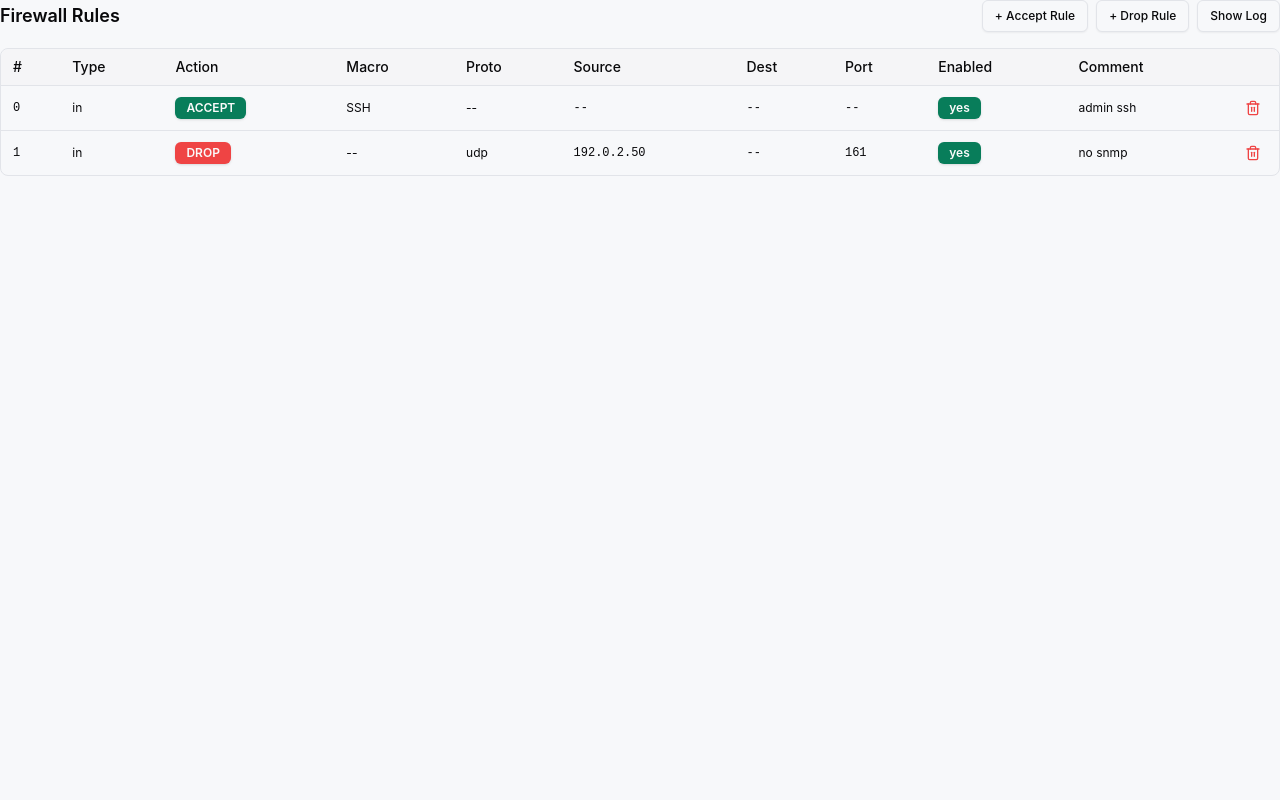
Test: NodeDetailPage Firewall tab — deleting a rule › asks first, naming the rule at that position, and sends nothing
Click the button named "Delete firewall rule 1" at (1253, 153), box top-left (1239, 139), bottom-right (1267, 167)
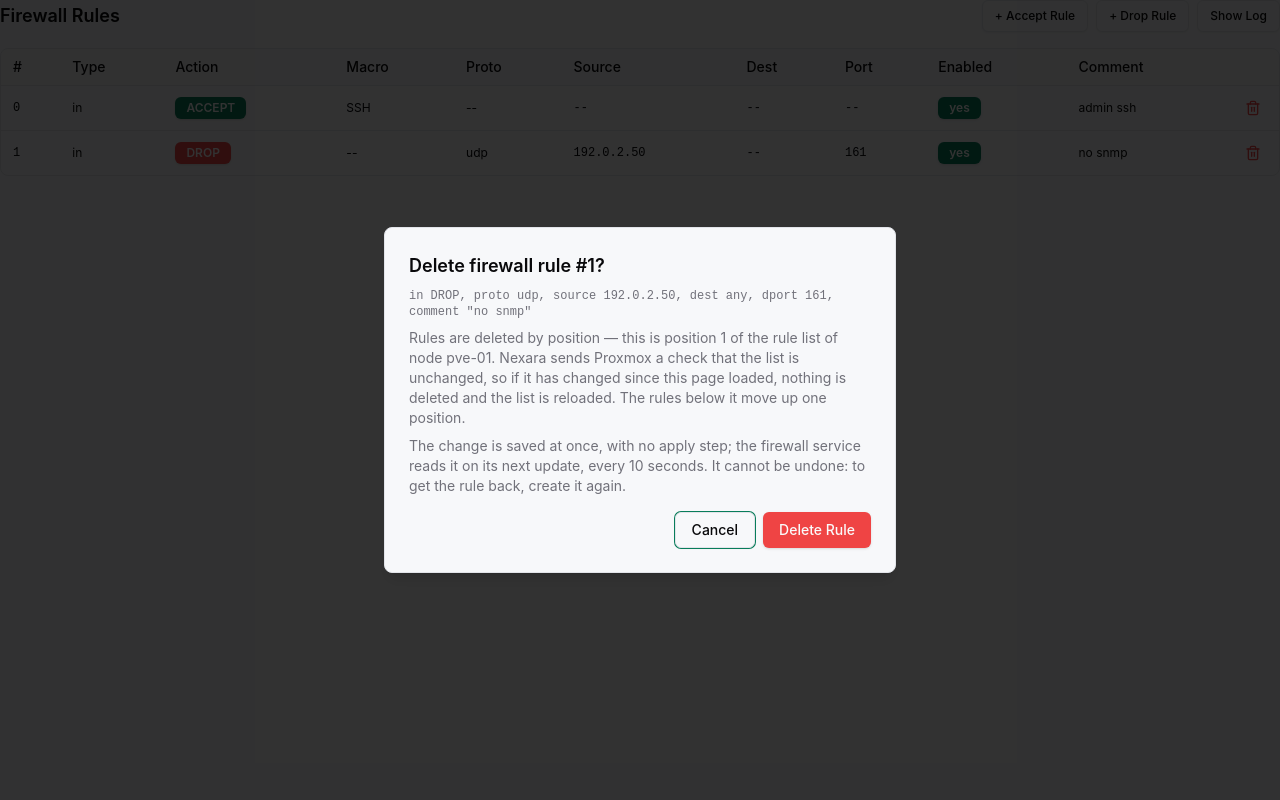
Expected: the dialog does not show "admin ssh", top-left (384, 227), bottom-right (896, 573)
Now the heading "Delete firewall rule #1?" is shown, box top-left (409, 255), bottom-right (605, 276)
Now the dialog shows "in DROP, proto udp, source 192.0.2.50, dest any, dport 161, comment \"no snmp\"", box top-left (409, 289), bottom-right (834, 319)
